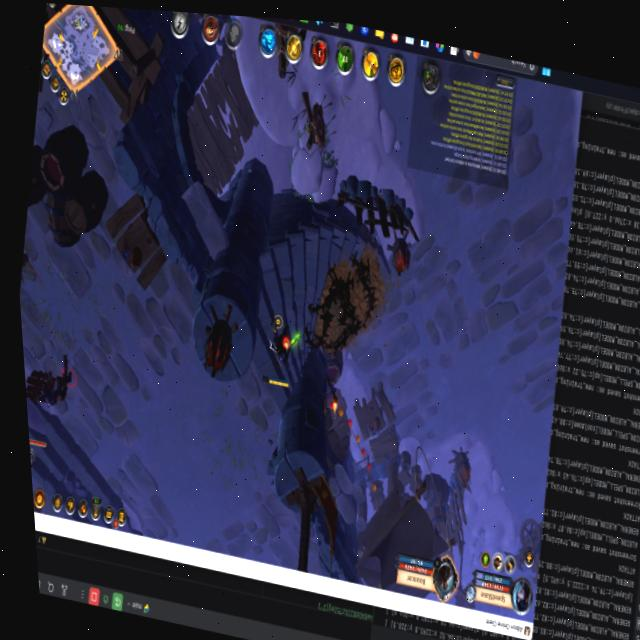ore: (23, 341, 90, 477), (16, 233, 50, 297)
red: (257, 309, 307, 395)
